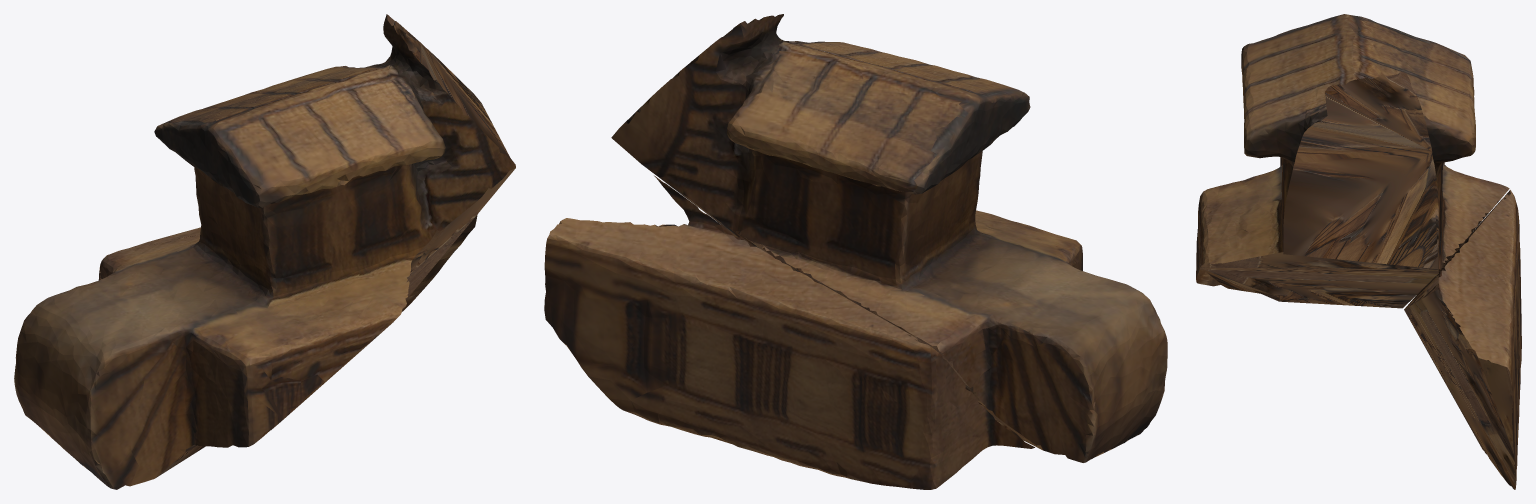
File: Back.fbx
The picture shows the model from 3 angles, left to right: view 1: azimuth 30°, elevation 25°; view 2: azimuth 150°, elevation 25°; view 3: azimuth 270°, elevation 25°; orthographic projection. The views are drawn at different scales.
Parts seen in each view (by area): view 1: KLA-Or-10000_cell.008; view 2: KLA-Or-10000_cell.008; view 3: KLA-Or-10000_cell.008.
Part boxes in pixels (x1,y1,x2,y2): KLA-Or-10000_cell.008: (14, 14, 515, 489); KLA-Or-10000_cell.008: (544, 14, 1167, 489); KLA-Or-10000_cell.008: (1196, 14, 1521, 489).
Size of the model in its own units: 78.15 by 55.48 by 40.76.
